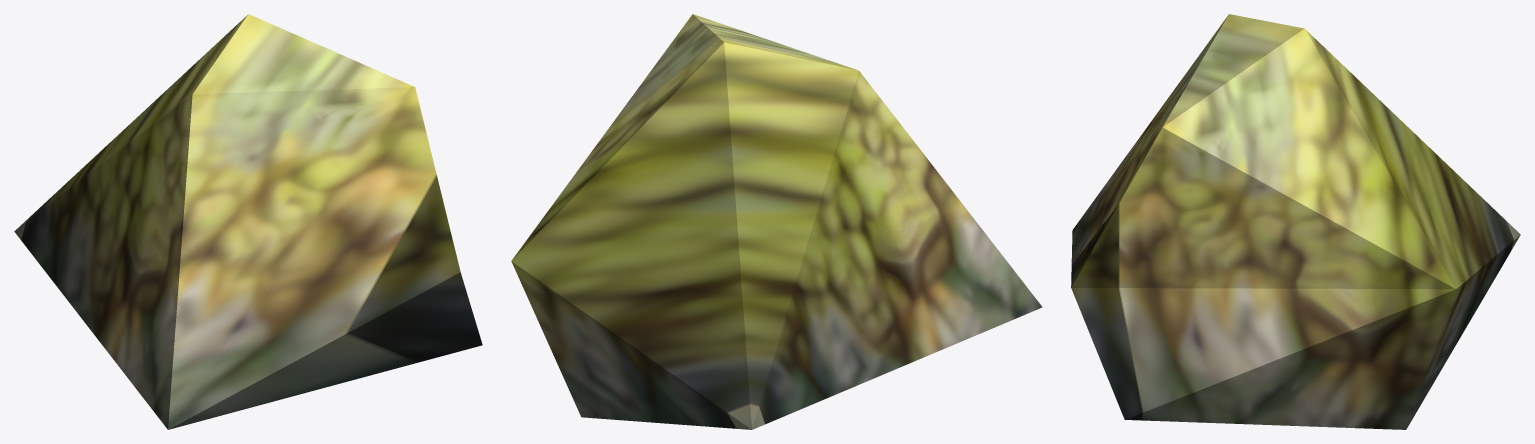
The model's file is Ridge_9_Rock.gltf.
3 views of the same model, side by side, from view 1: azimuth 30°, elevation 25°; view 2: azimuth 150°, elevation 25°; view 3: azimuth 270°, elevation 25° (orthographic). The views are drawn at different scales.
Visible parts, largest first — view 1: Ridge_9_Rock; view 2: Ridge_9_Rock; view 3: Ridge_9_Rock.
Part boxes in pixels (x1,y1,x2,y2): Ridge_9_Rock: (14, 14, 482, 429); Ridge_9_Rock: (511, 14, 1042, 429); Ridge_9_Rock: (1071, 14, 1520, 429).
Size of the model in its own units: 6.03 by 5.82 by 6.64.
Materials: 1 (1 with a texture image).
